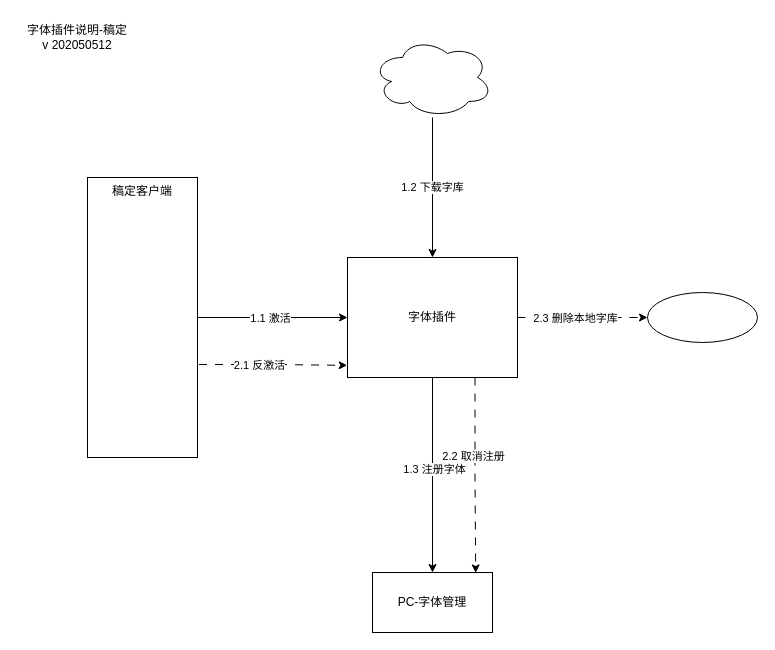
Some shapes in this 775 by 650 pixel diagram are drawn without their labels. The centre of each missing label's shape, as x and y in pixels:
"本地字库文件" belongs at (x=702, y=317).
"远程字库文件" belongs at (x=432, y=77).
